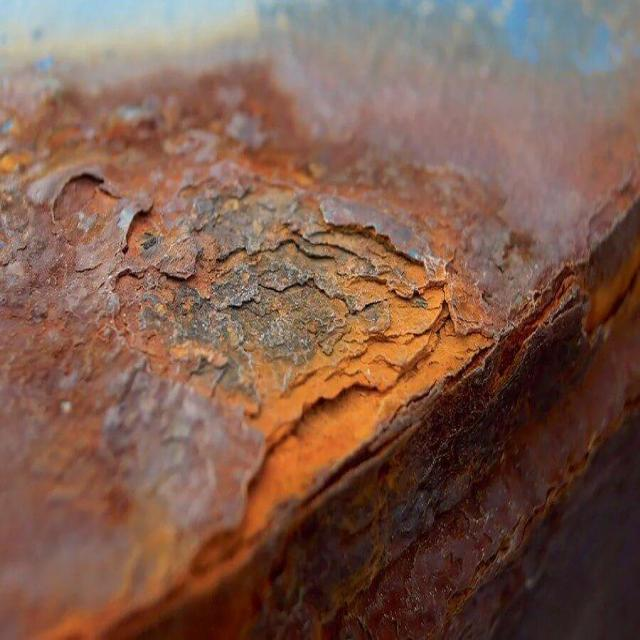Uniform Corrosion: (0, 54, 639, 639)
